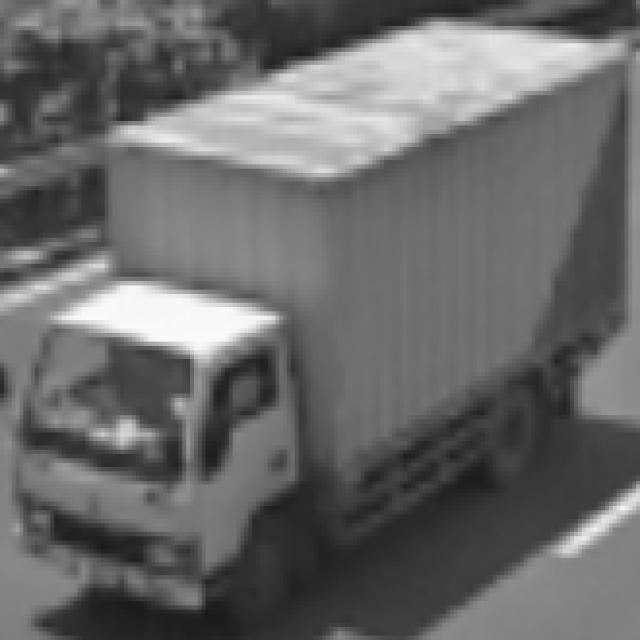truck: (9, 278, 321, 626)
